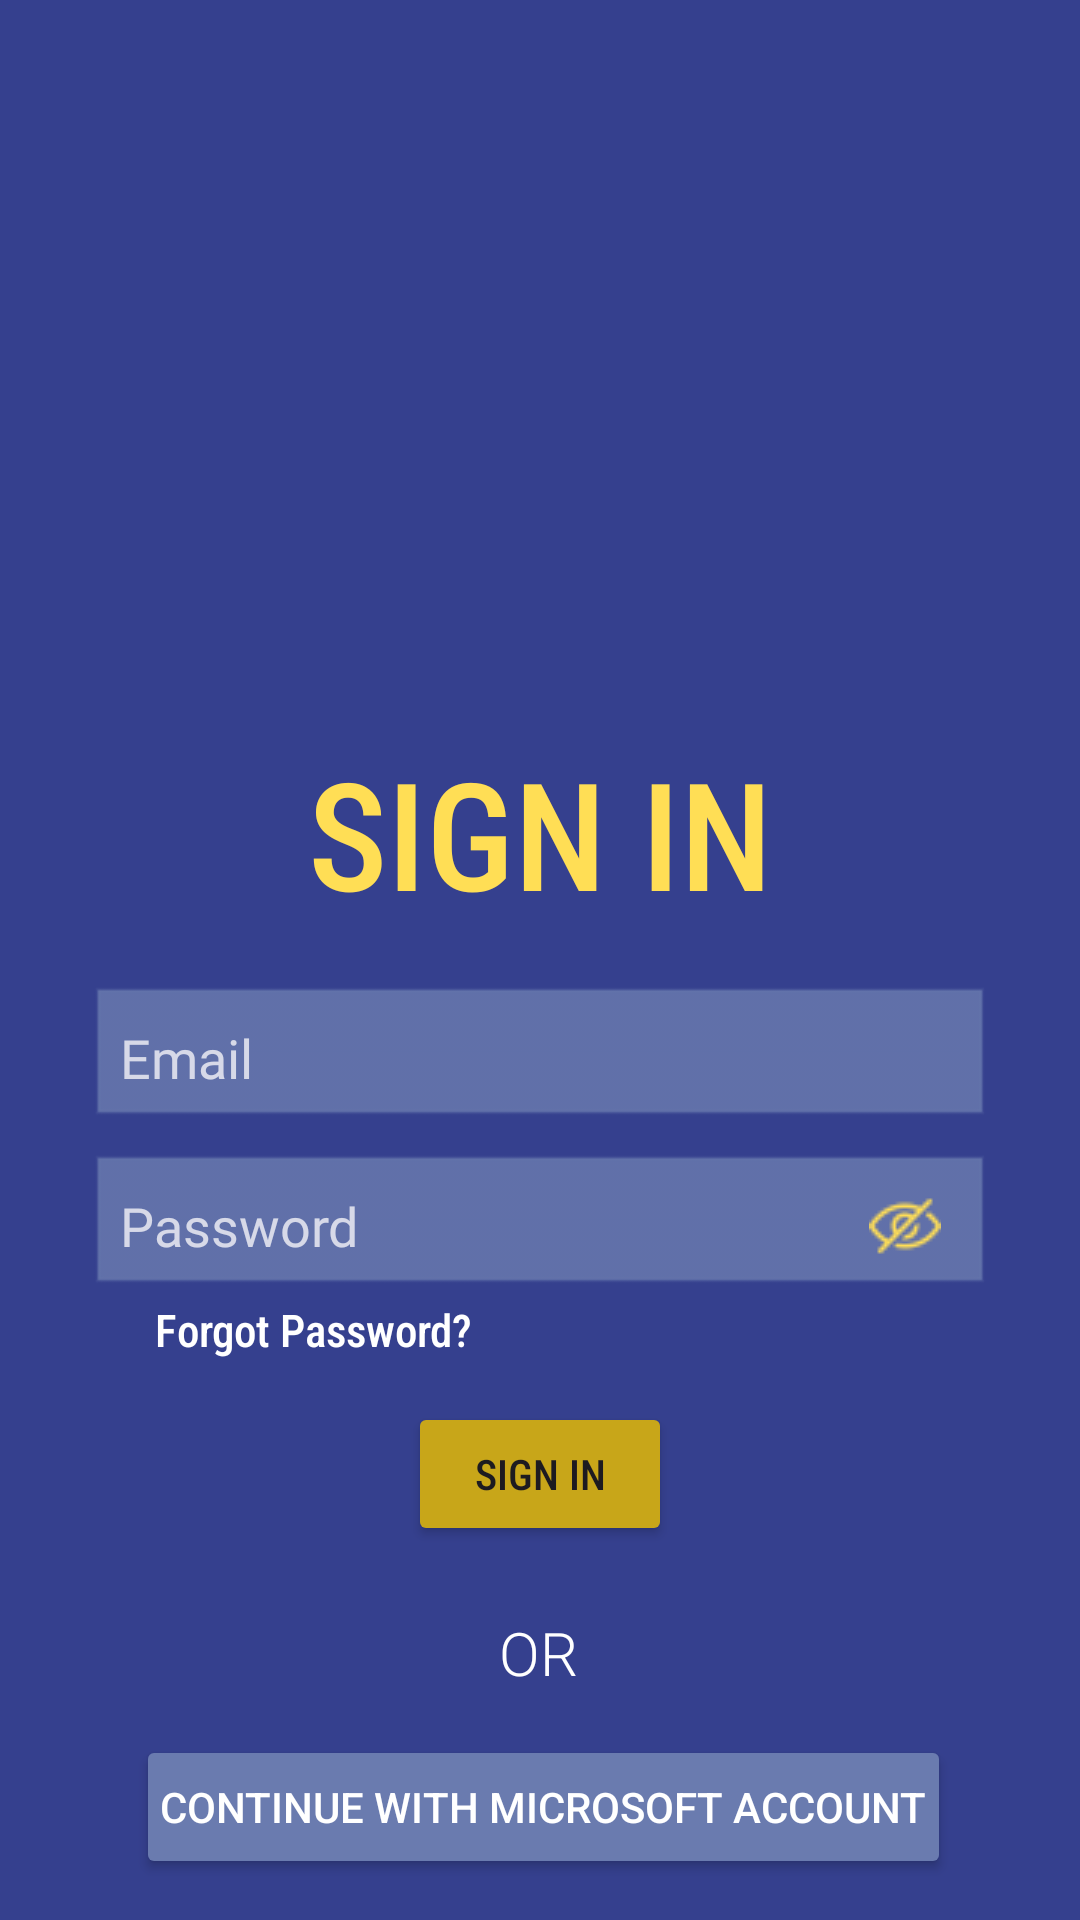

Icons on this 1080w x 1920h Android screen, each with its box as bbox=[x1, y1, x2, y2]:
hide: bbox=[869, 1198, 941, 1254]
